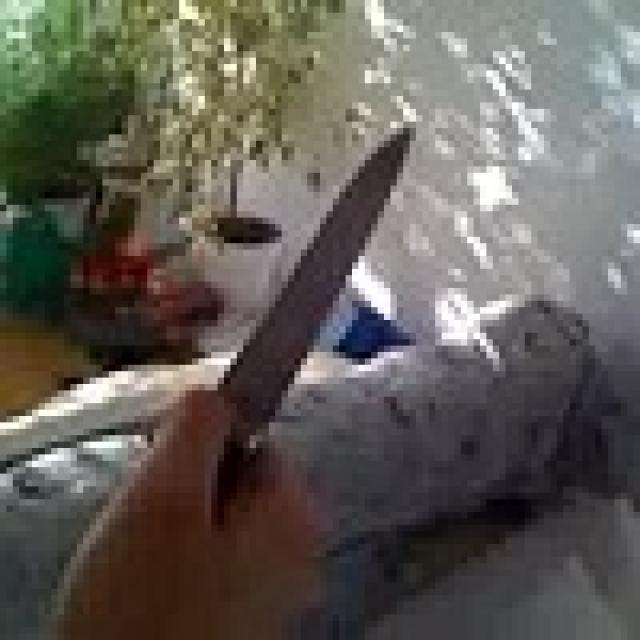Knife_Handle: (51, 122, 416, 621)
